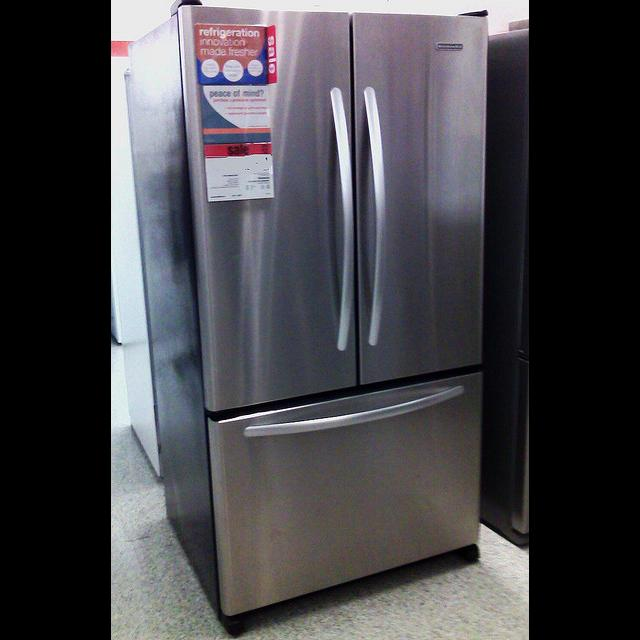Refrigerator: (123, 0, 489, 639), (481, 17, 529, 552)
